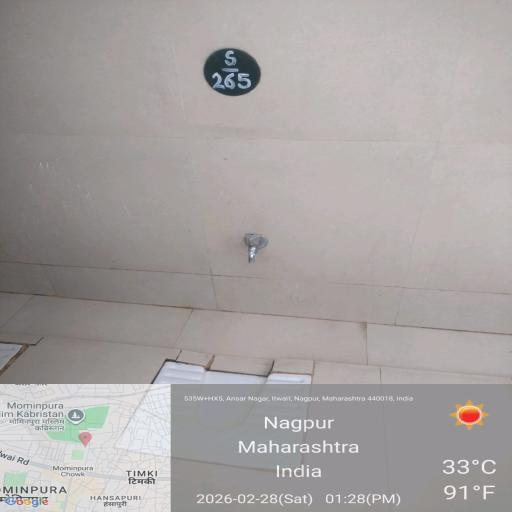clean_floor: (40, 69, 469, 249)
clean_indian: (131, 361, 334, 482)
